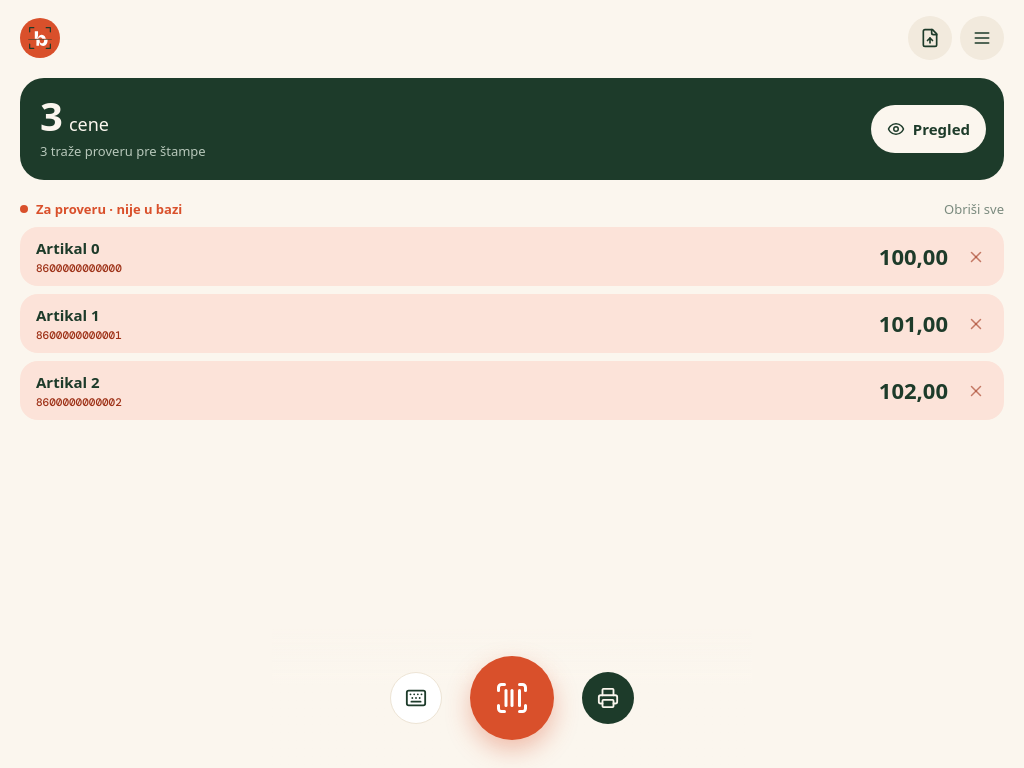
Test: Home › offers Obriši sve on the first group, even when every article still needs checking
This screenshot has width=1024, height=768.
Click the button "Obriši sve": (974, 209) [944,200,1004,219]
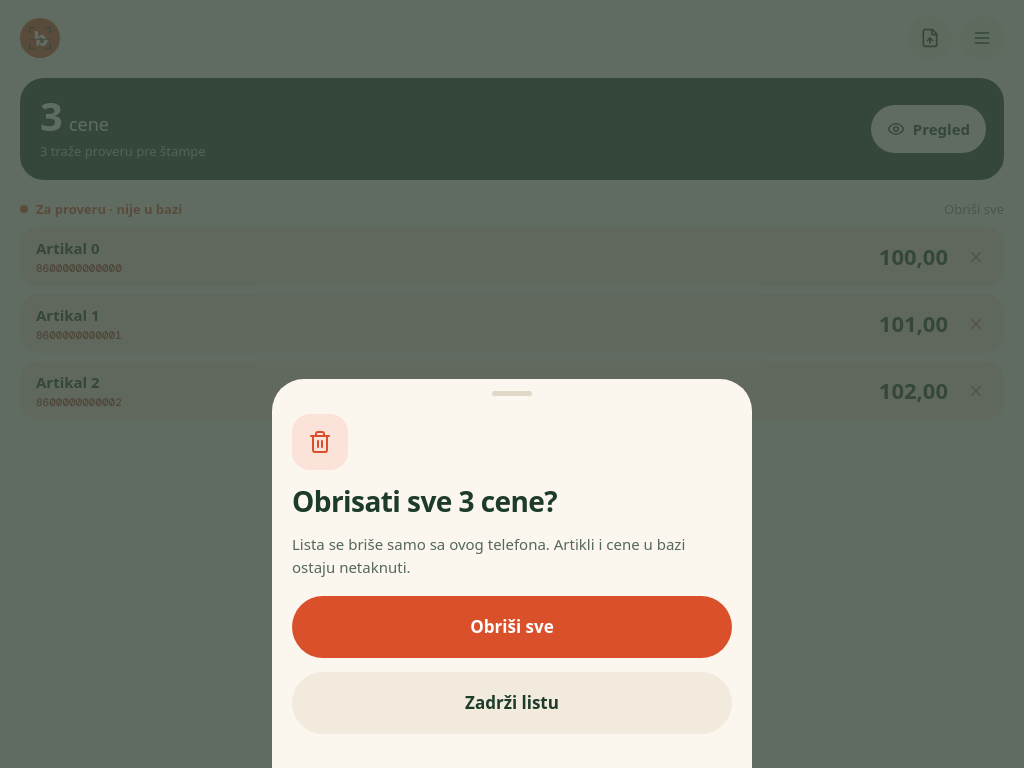
Check: the heading "Obrisati sve 3 cene?" is shown, box [292,482,557,520]
